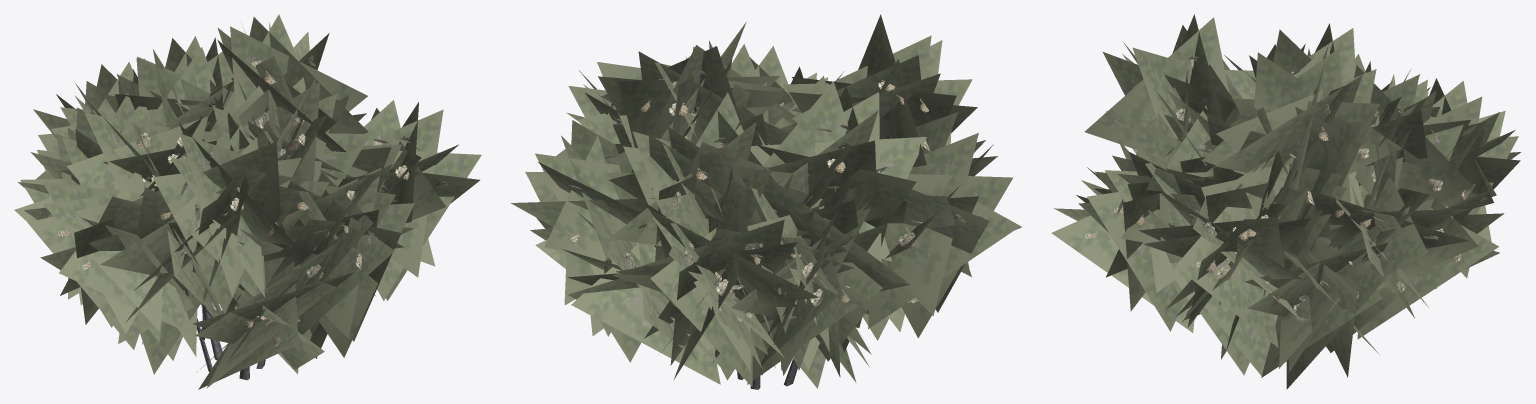
Rendered from Sorbus_Aria_Spring_Young.glb.
3 renders of one model, left to right at view 1: azimuth 30°, elevation 25°; view 2: azimuth 150°, elevation 25°; view 3: azimuth 270°, elevation 25°, orthographic. The views are drawn at different scales.
Parts seen in each view (by area): view 1: Sorbus_Aria_Spring_Young__LOD3; view 2: Sorbus_Aria_Spring_Young__LOD3; view 3: Sorbus_Aria_Spring_Young__LOD3.
Boxes of the visible parts, left/top/right/bottom form: Sorbus_Aria_Spring_Young__LOD3: left=14, top=14, right=481, bottom=389; Sorbus_Aria_Spring_Young__LOD3: left=511, top=14, right=1021, bottom=389; Sorbus_Aria_Spring_Young__LOD3: left=1051, top=14, right=1520, bottom=389.
Size of the model in its own units: 4.72 by 3.41 by 4.56.
Materials: 3 (3 with a texture image).
